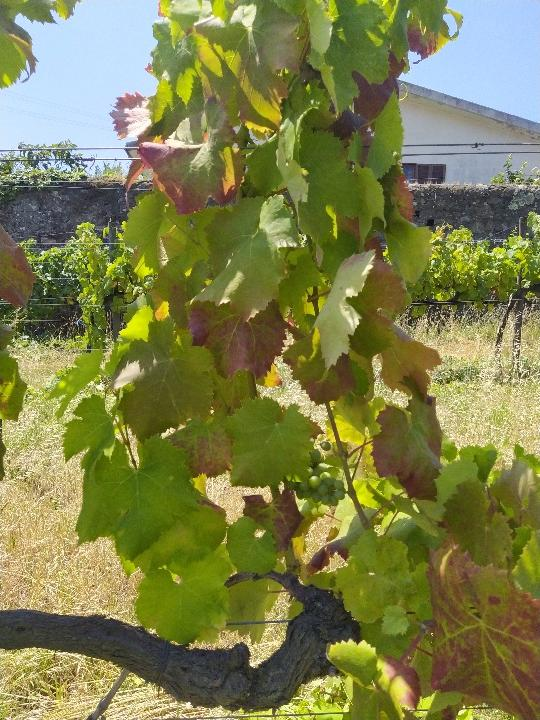grape: (293, 437, 349, 512)
